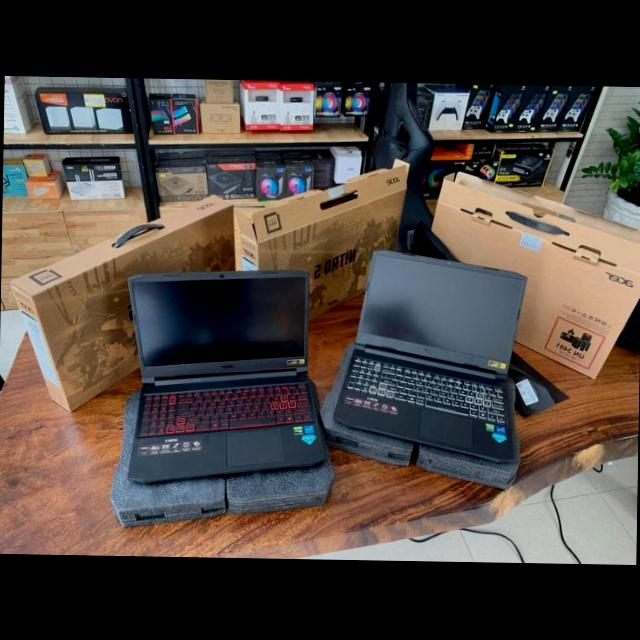laptop: (118, 262, 326, 493), (339, 246, 544, 469)
